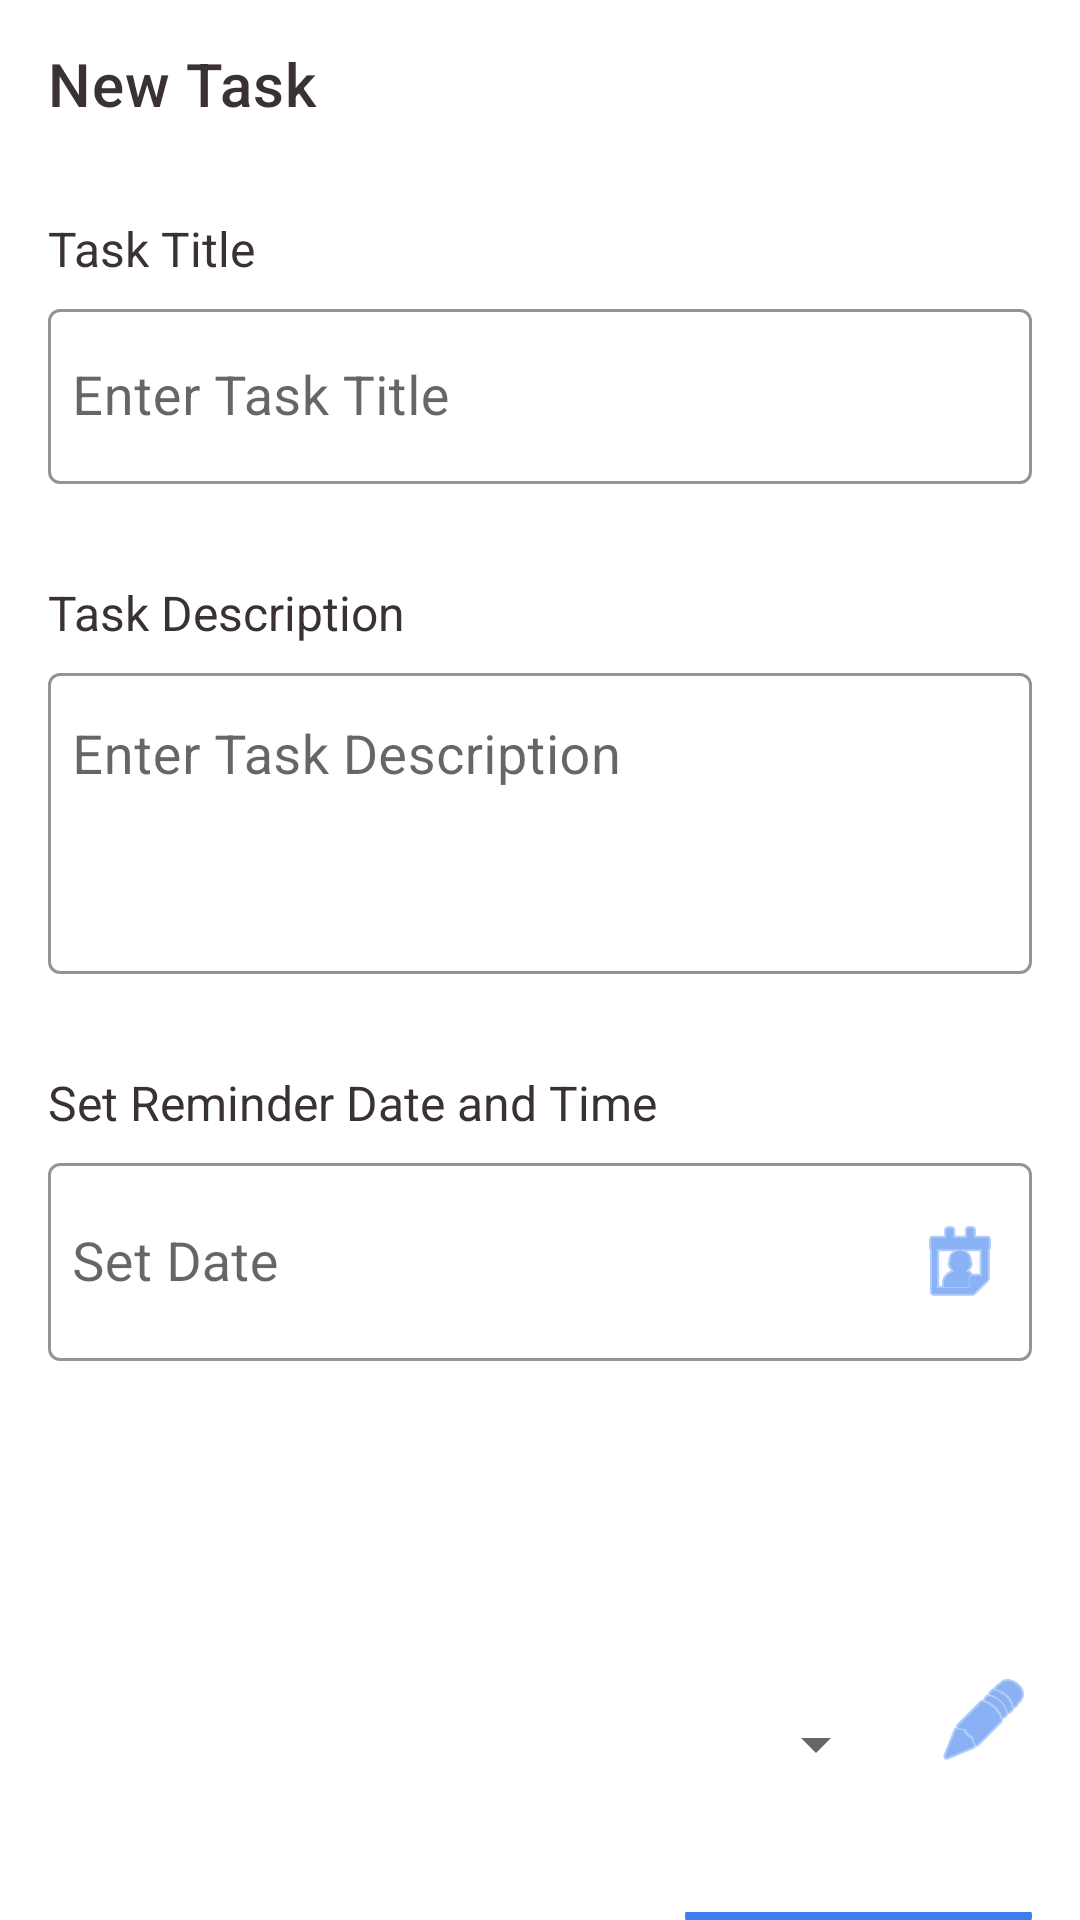

Icon click points for this 1080×1920 phone screenshot, format point (x, y):
edit: point (983, 1719)
